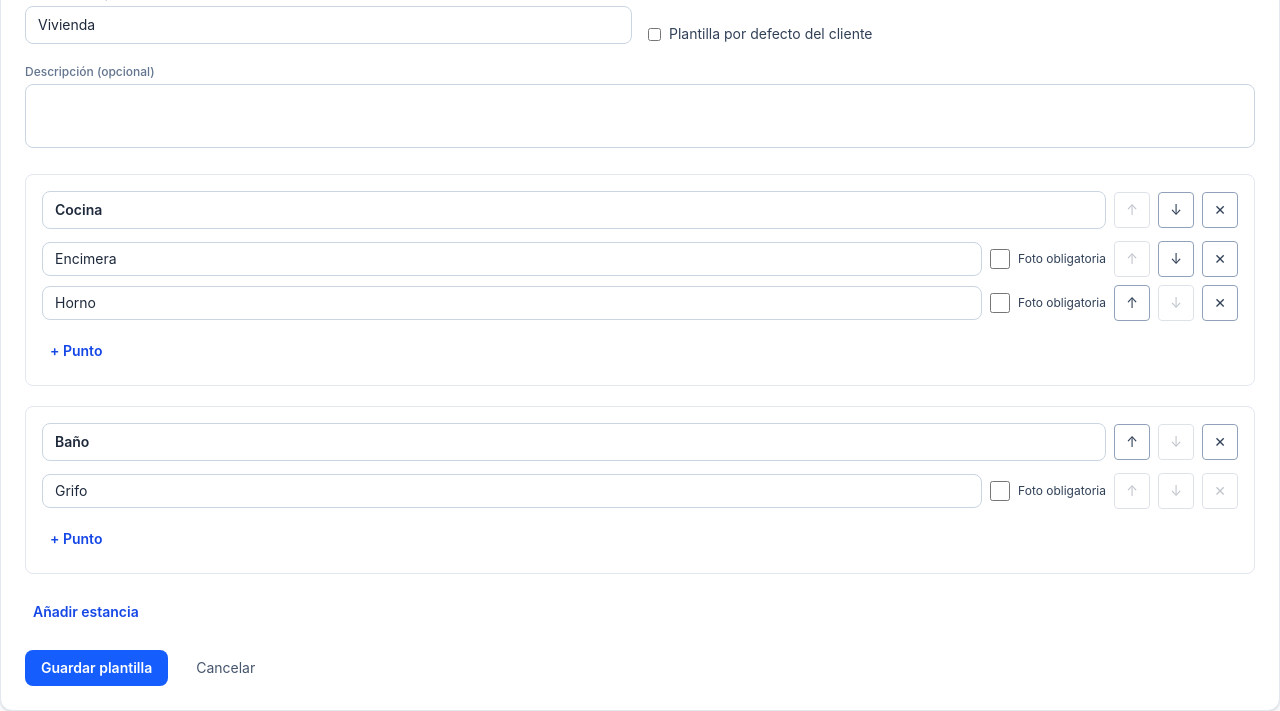
Test: EditorPlantilla: errores y foco › un 404 dice la causa, no «otra persona»
(page scrolled)
Click the button "Guardar plantilla": (97, 668) 25,650 -> 168,686
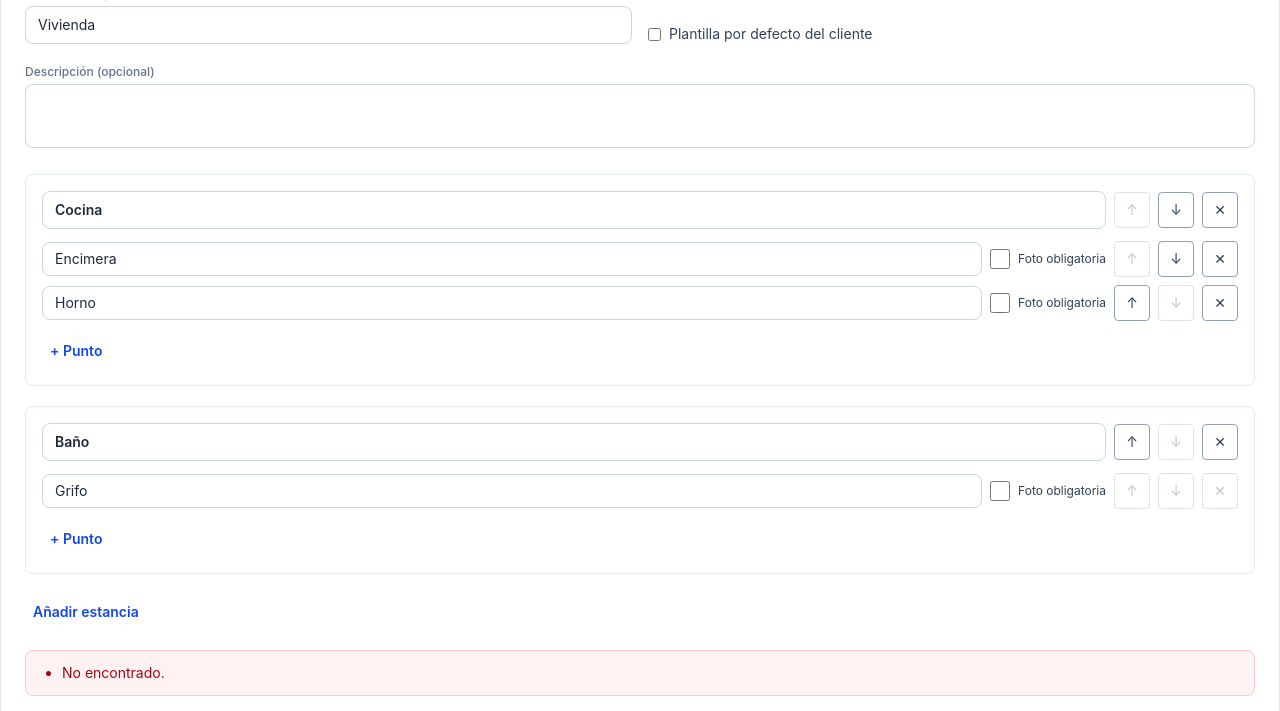
Expected: the message shows "No encontrado", 62,664 -> 165,681
